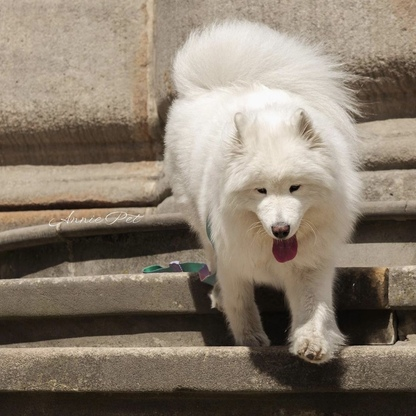samoyed: (146, 14, 384, 369)
